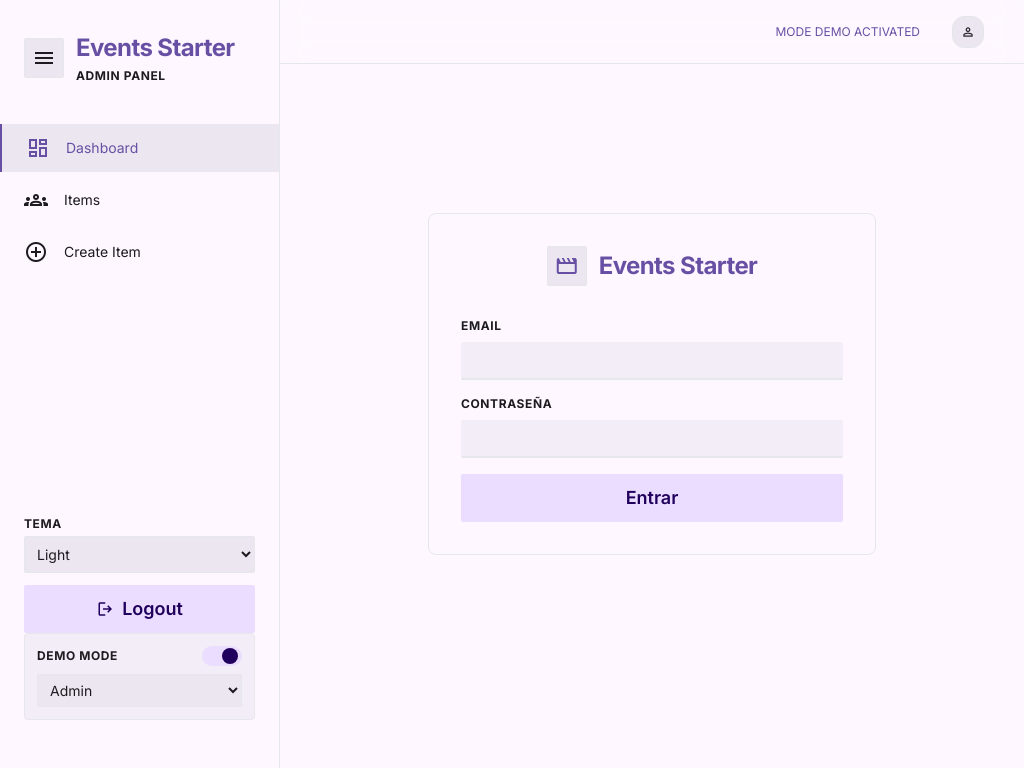
Test: App › login › failed login shows error message
This screenshot has width=1024, height=768.
Type "wrong@example.com" into the field. click: (652, 361)
box: [461, 342, 843, 380]
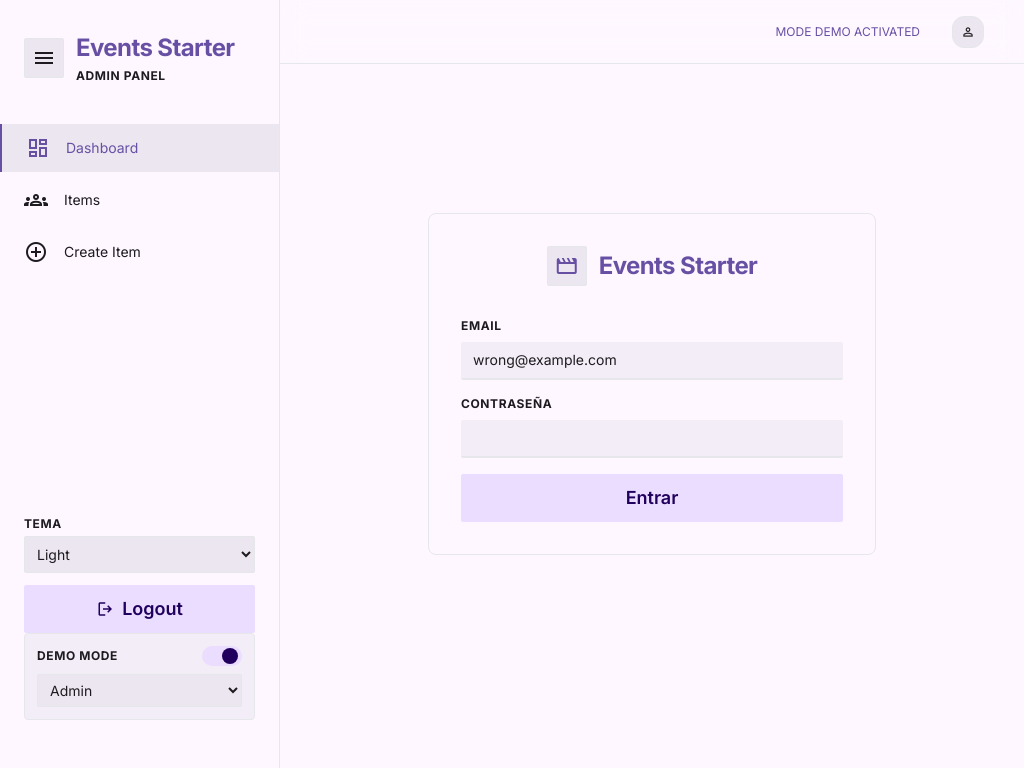
Type "wrongpass" into the password field. click: (652, 439)
box: [461, 420, 843, 458]
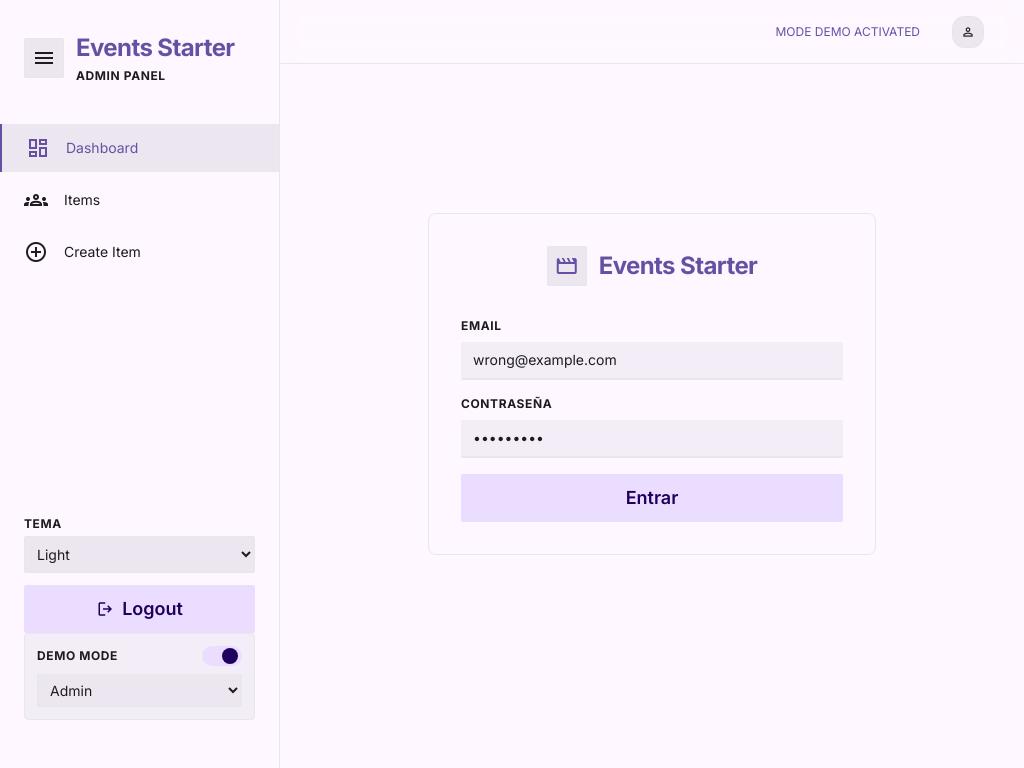
Click the button "Entrar". click: (652, 498)
box: [461, 474, 843, 522]
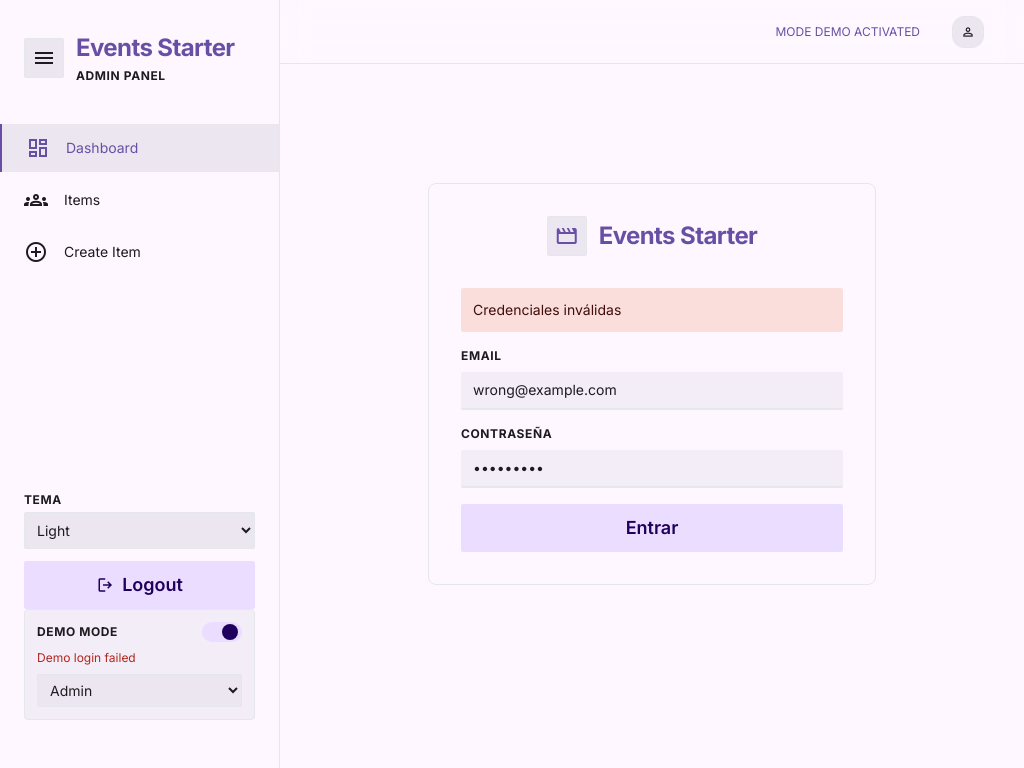
expect the text "Credenciales inválidas" is shown: met, box [461, 288, 843, 332]
